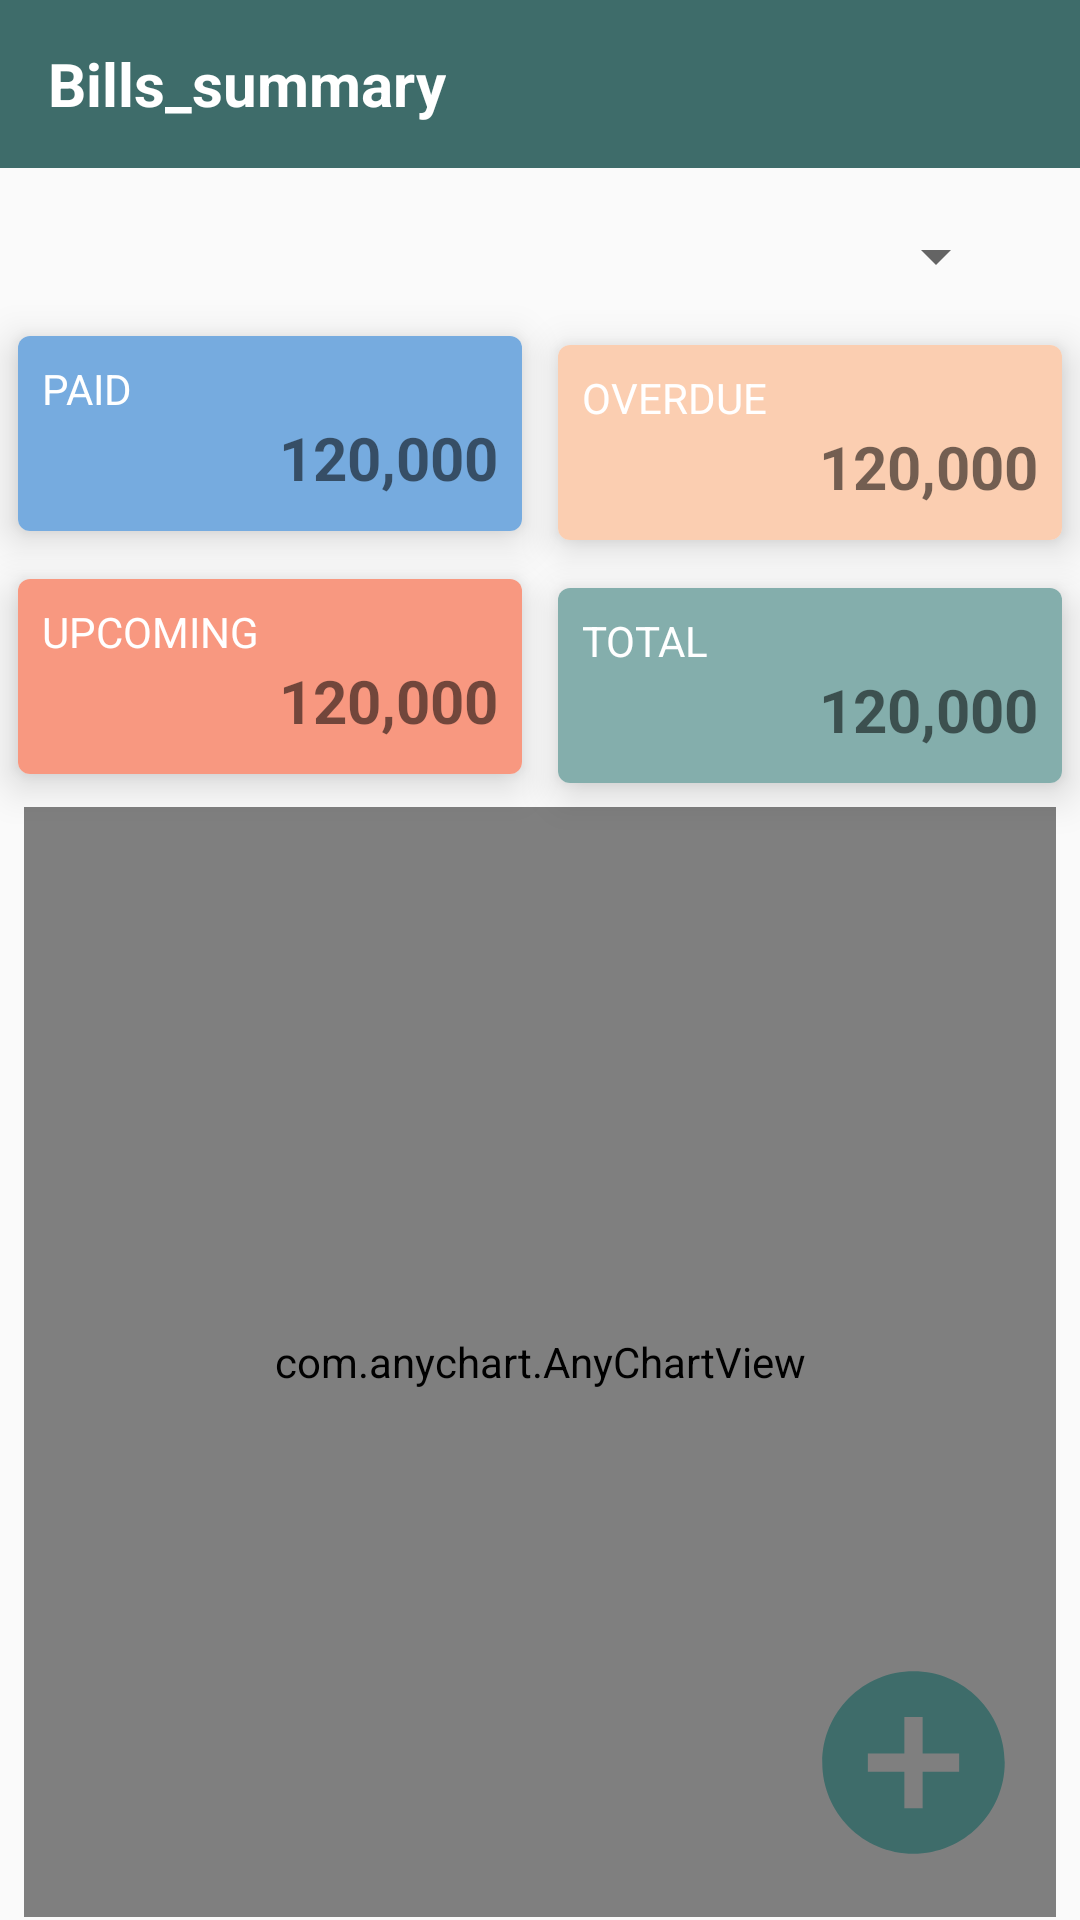

Icon bounding boxes for this 1080px x 1920px phone screenshot, format (x1, y1, x2, y2):
add circle: (822, 1671, 1005, 1854)
